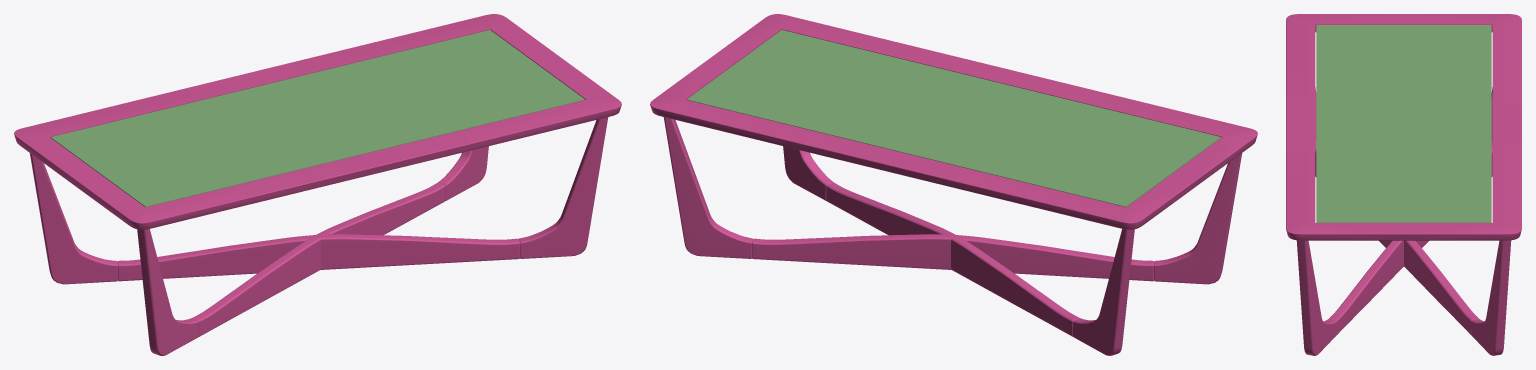
The model's file is Coffee_Table_Gen_2.fbx.
3 views of the same model, side by side, from view 1: azimuth 30°, elevation 25°; view 2: azimuth 150°, elevation 25°; view 3: azimuth 270°, elevation 25° (orthographic). The views are drawn at different scales.
Parts seen in each view (by area): view 1: mesh_table; view 2: mesh_table; view 3: mesh_table.
Boxes of the visible parts, x1,y1,x2,y2 form: mesh_table: [14, 14, 621, 355]; mesh_table: [650, 14, 1257, 355]; mesh_table: [1286, 14, 1521, 355].
Size of the model in its own units: 198 by 58.12 by 89.83.
